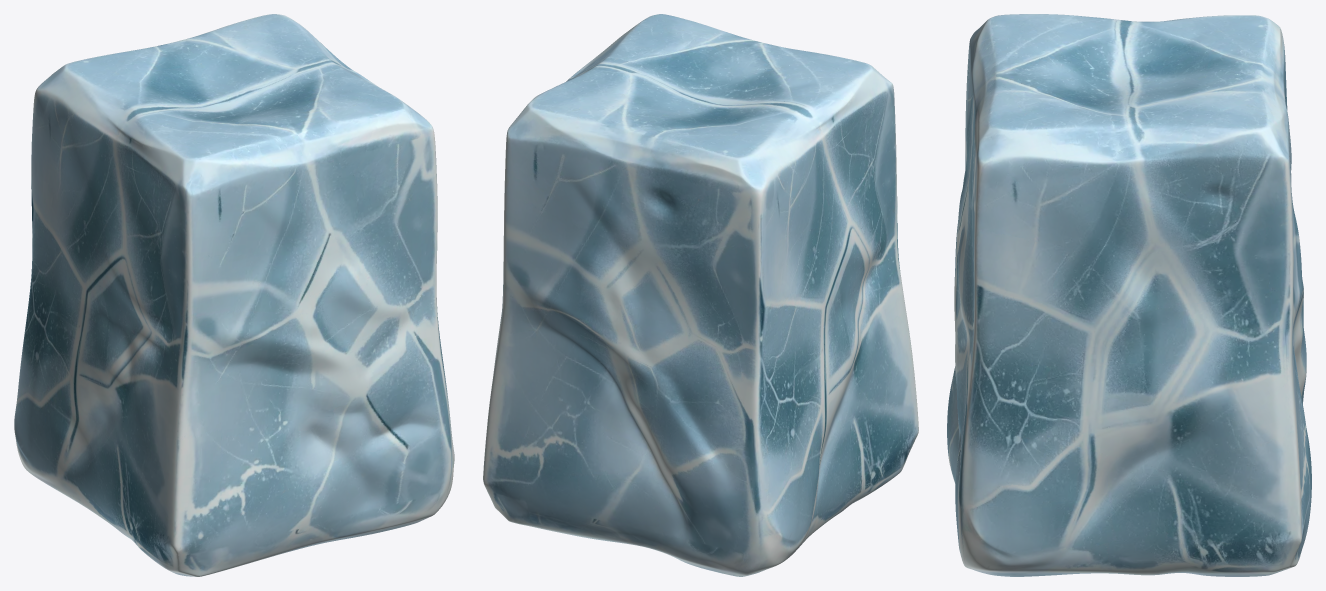
The model's file is draco-lemon.glb.
3 views of the same model, side by side, from view 1: azimuth 30°, elevation 25°; view 2: azimuth 150°, elevation 25°; view 3: azimuth 270°, elevation 25° (orthographic). The views are drawn at different scales.
Size of the model in its own units: 1.45 by 1.9 by 1.42.
Materials: 1 (1 with a texture image).
